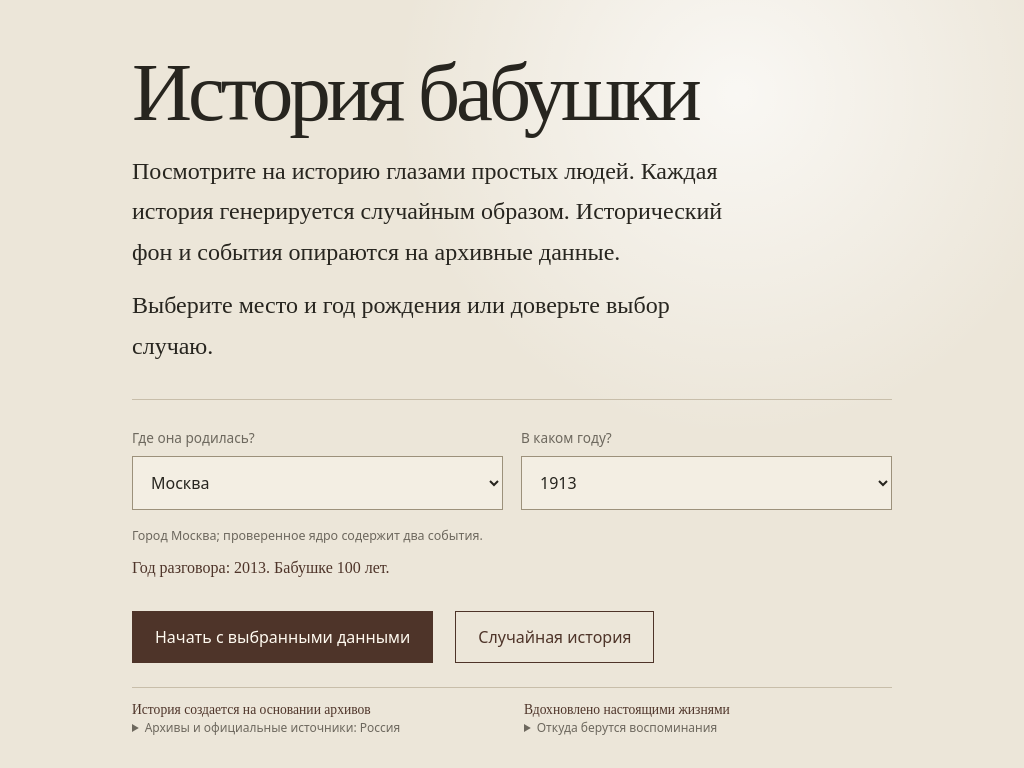
accessible vertical slice › can start a fully random supported story
The width and height of the screenshot is (1024, 768).
Step 1. Click the button "Случайная история" → (555, 637), box left=455, top=611, right=654, bottom=663
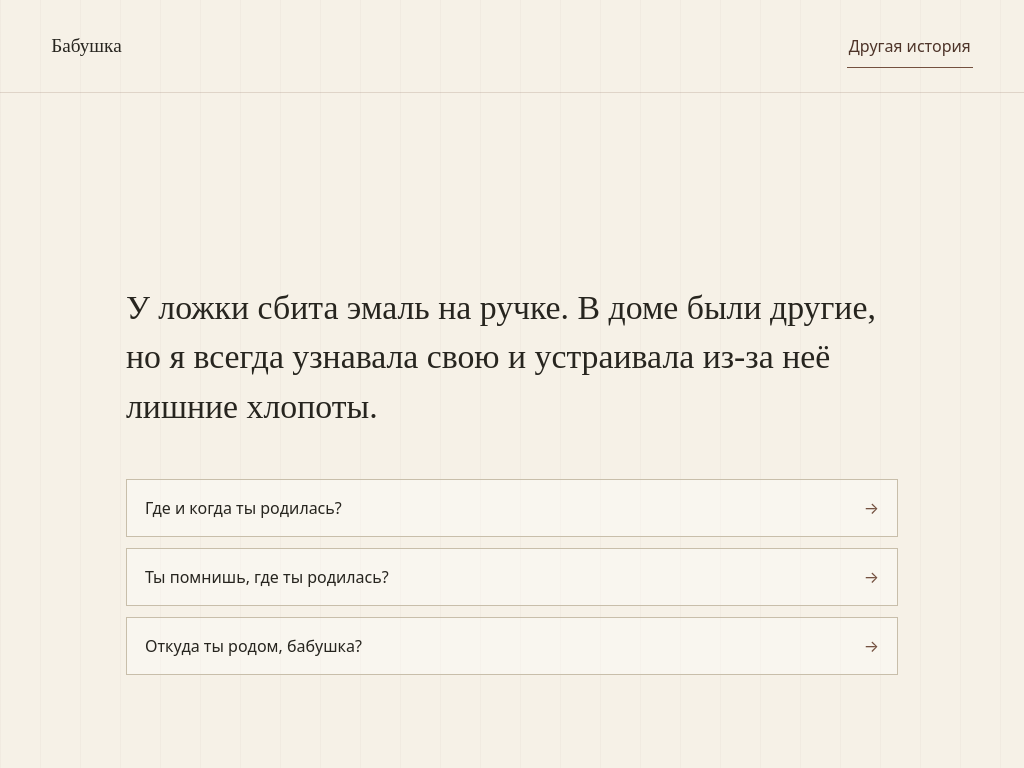
Result: the element named "Что спросить" is shown at left=126, top=479, right=898, bottom=675
